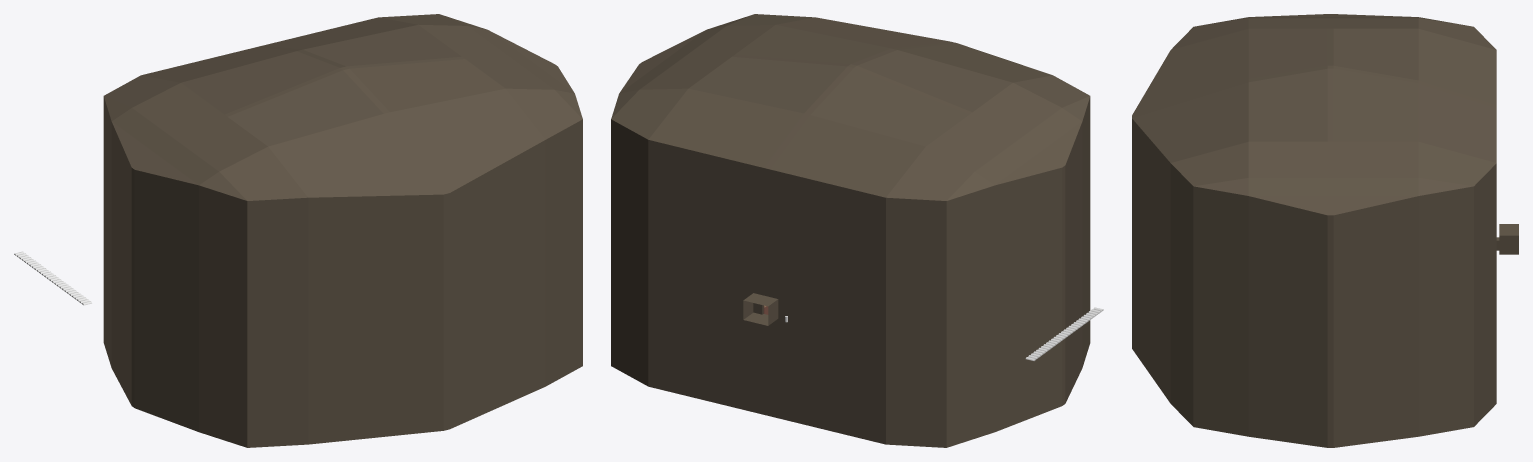
File: map.fbx
3 renders of one model, left to right at view 1: azimuth 30°, elevation 25°; view 2: azimuth 150°, elevation 25°; view 3: azimuth 270°, elevation 25°, orthographic. The views are drawn at different scales.
Parts seen in each view (by area): view 1: Plane, Cutouts; view 2: Plane, Cutouts; view 3: Plane.
Boxes of the visible parts, <box> form: Plane: <box>103,14,582,447</box>; Cutouts: <box>14,251,91,305</box>; Plane: <box>611,14,1090,447</box>; Cutouts: <box>1025,307,1103,360</box>; Plane: <box>1132,14,1518,447</box>.
Size of the model in its own units: 185 by 109 by 136.
